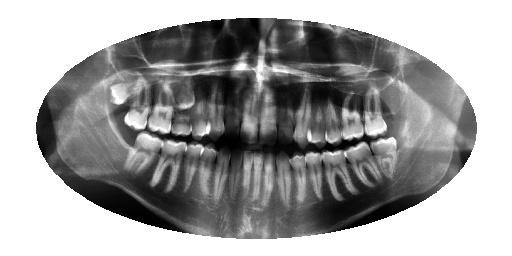i10decay: (227, 143, 244, 201)
i11healthy: (212, 144, 233, 206)
i12healthy: (195, 139, 218, 201)
i13healthy: (180, 137, 206, 200)
i14healthy: (149, 135, 190, 199)
i15healthy: (121, 125, 165, 190)
i16loss: (105, 114, 138, 164)
i1healthy: (367, 134, 403, 183)
i2healthy: (343, 140, 383, 191)
i3healthy: (317, 144, 364, 201)
i4healthy: (303, 145, 325, 203)
i5healthy: (287, 147, 308, 211)
i6healthy: (272, 142, 293, 211)
i7healthy: (261, 145, 277, 212)
i8healthy: (249, 147, 266, 209)
i9healthy: (237, 145, 255, 206)
u10decay: (220, 79, 243, 147)
u11healthy: (203, 76, 227, 144)
u12healthy: (190, 83, 213, 147)
u13healthy: (167, 86, 193, 142)
u14healthy: (146, 84, 174, 141)
u15healthy: (120, 89, 153, 134)
u16healthy: (105, 68, 142, 112)
u1loss: (375, 75, 407, 116)
u2healthy: (360, 87, 389, 141)
u3healthy: (335, 89, 368, 145)
u4healthy: (320, 92, 344, 147)
u5healthy: (305, 95, 327, 149)
u6healthy: (289, 84, 317, 151)
u7decay: (272, 83, 297, 149)
u8decay: (255, 84, 280, 149)
u9decay: (235, 71, 261, 147)
